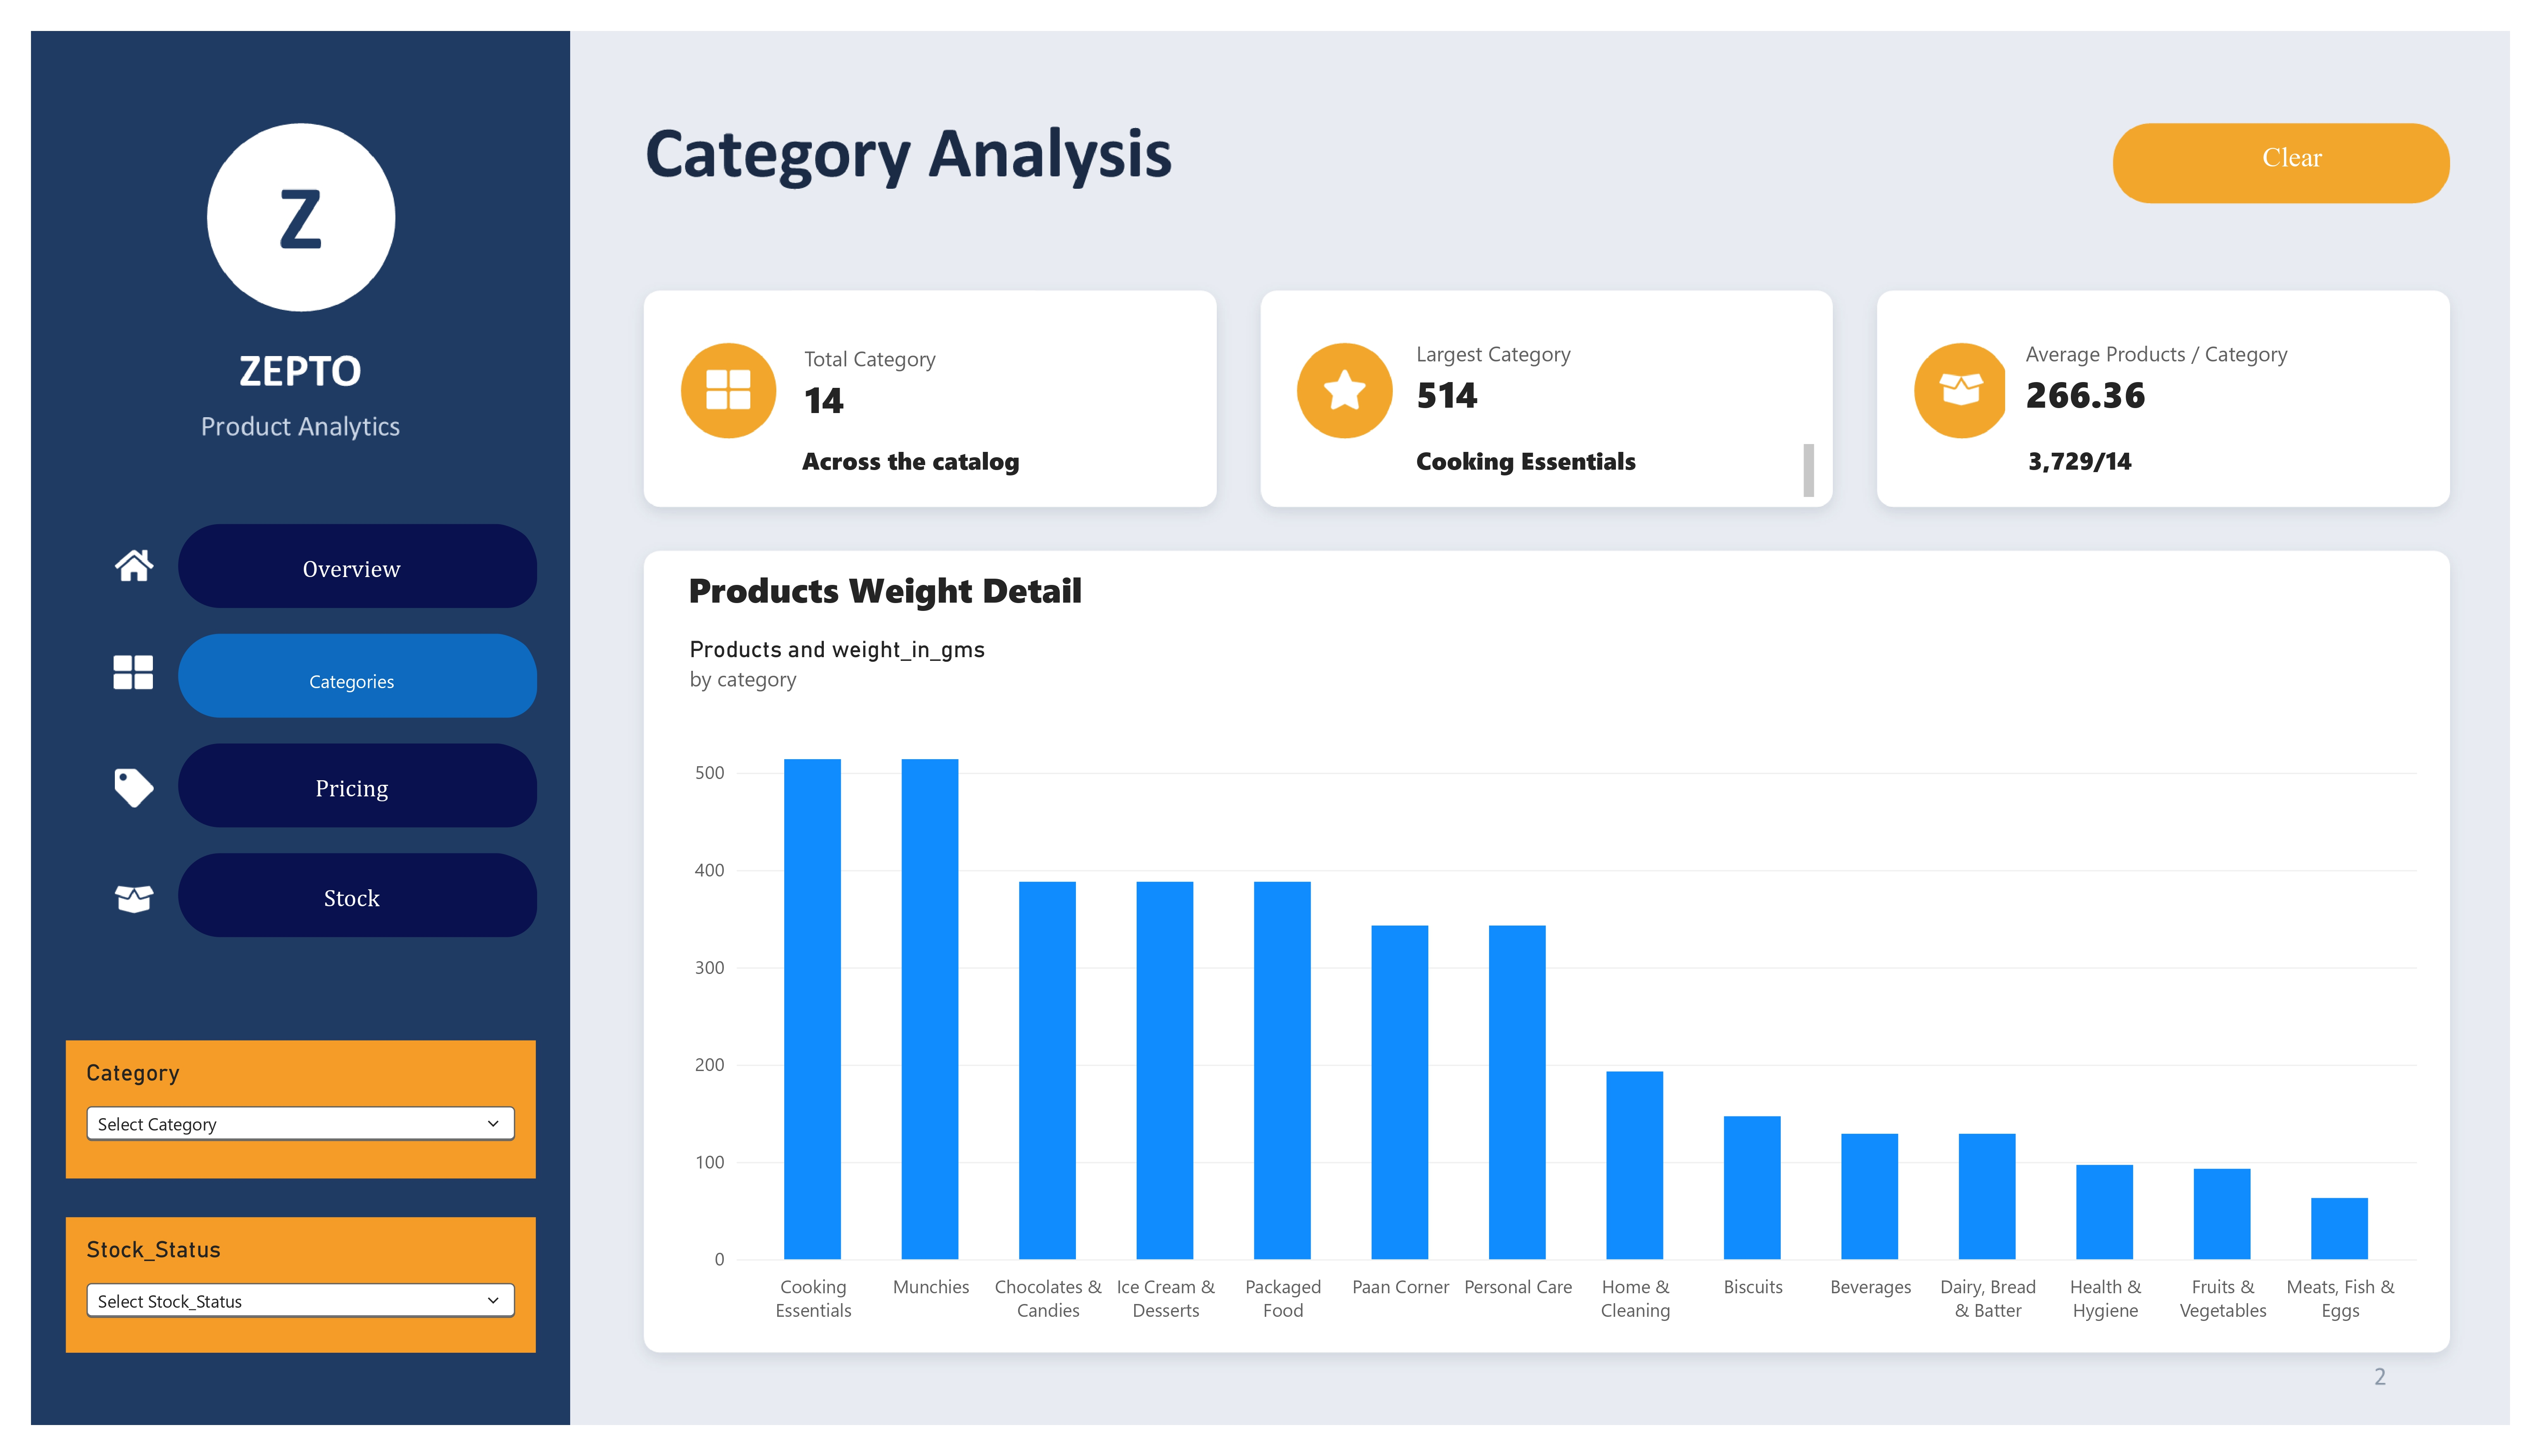

This screenshot's page, from the dashboard's own definition file:
{"tool":"powerbi","page":{"name":"Categories","canvas":[1920,1080],"ordinal":1},"visuals":[{"type":"cardVisual","fields":{"Data":["Count(zepto_cleaned.category)"]},"box":[582.7,200.9,200.9,144.8],"z":0},{"type":"cardVisual","fields":{"Data":["zepto_cleaned.Largest Category Value"]},"box":[1056.8,219,224.4,101.3],"z":1000},{"type":"cardVisual","fields":{"Data":["zepto_cleaned.Average Products per Category"]},"box":[1529.2,211.7,295,115.8],"z":2000},{"type":"textbox","box":[0,0,226,358],"z":3000},{"type":"textbox","box":[597.2,320.3,202.7,50.7],"z":4000},{"type":"textbox","box":[226,0,194,358],"z":5000},{"type":"textbox","box":[1073.1,320.3,307.6,50.7],"z":6000},{"type":"textbox","box":[1547.3,320.3,204.5,38],"z":7000},{"type":"columnChart","fields":{"Category":["zepto_cleaned.category"],"Y":["CountNonNull(zepto_cleaned.product_id)"]},"box":[494,454.2,1369.9,564.6],"z":8000},{"type":"actionButton","box":[1621.5,65.1,260.6,68.8],"z":9000},{"type":"pageNavigator","box":[114,382,278,322],"z":10000},{"type":"textbox","box":[508.5,414.4,1355.4,39.8],"z":12001},{"type":"listSlicer","fields":{"Values":["zepto_cleaned.category"]},"box":[27.1,781.8,363.7,106.8],"z":12002},{"type":"listSlicer","fields":{"Values":["zepto_cleaned.stock_status"]},"box":[27.1,919.3,363.7,105],"z":12003}]}

Visuals, with their boxes on the page's 1920x1080 design canvas (x1, y1, x2, y2). These are canvas units, not pixel positions in the 2541x1456 screenshot, which may show the page scaled, cropped or inside an application window:
cardVisual - Count(zepto_cleaned.category): (583,201,784,346)
cardVisual - zepto_cleaned.Largest Category Value: (1057,219,1281,320)
cardVisual - zepto_cleaned.Average Products per Category: (1529,212,1824,328)
textbox: (0,0,226,358)
textbox: (597,320,800,371)
textbox: (226,0,420,358)
textbox: (1073,320,1381,371)
textbox: (1547,320,1752,358)
columnChart - zepto_cleaned.category x CountNonNull(zepto_cleaned.product_id): (494,454,1864,1019)
actionButton: (1622,65,1882,134)
pageNavigator: (114,382,392,704)
textbox: (508,414,1864,454)
listSlicer - zepto_cleaned.category: (27,782,391,889)
listSlicer - zepto_cleaned.stock_status: (27,919,391,1024)
